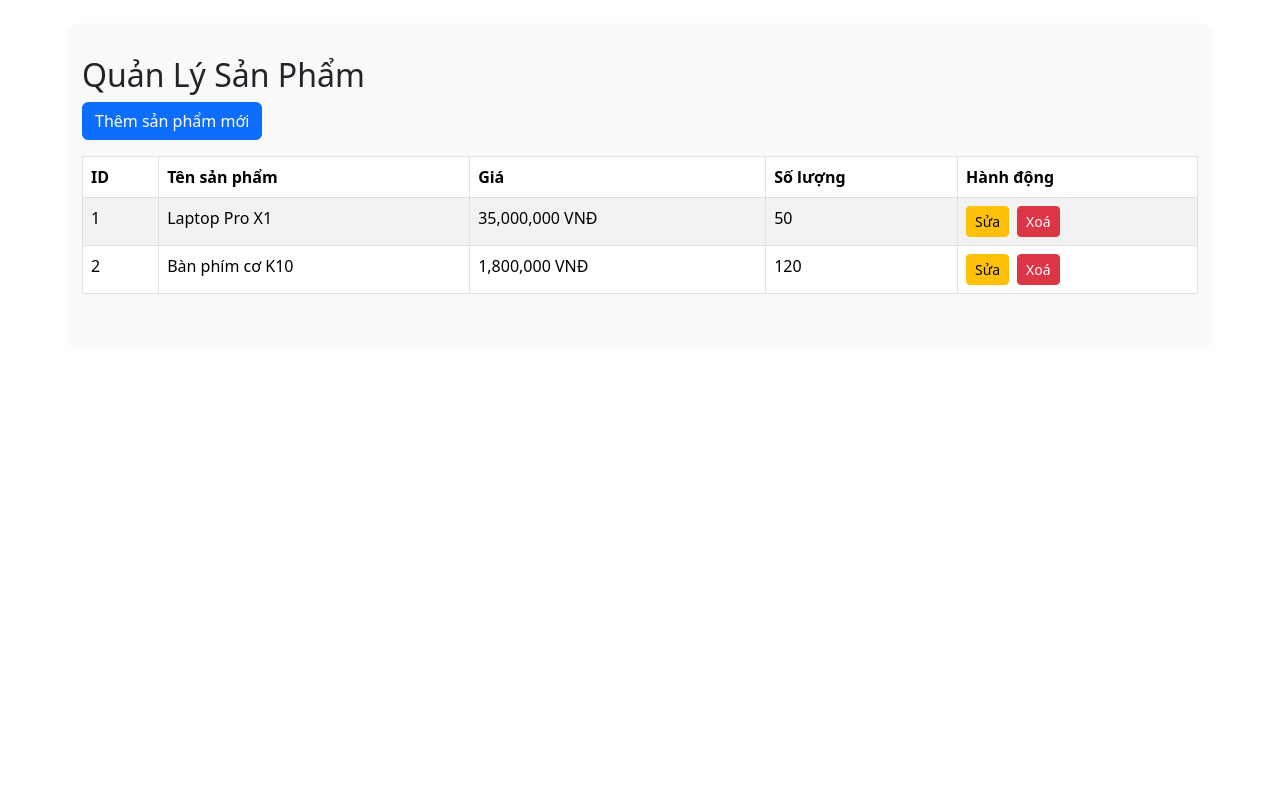
it: a) ProductList Integration (ProductManagement Component) › a.4 - Tích hợp Xoá (Delete): Mở modal, xác nhận, gọi API và tải lại danh sách
Check: the text "Laptop Pro X1" is shown, box [159,198,470,246]
What coordinates should you click on to do the following:
click the button "Xoá" in the row of "Laptop Pro X1"
I would click on:
 (1038, 222)
Its box is [1017,206,1060,237].
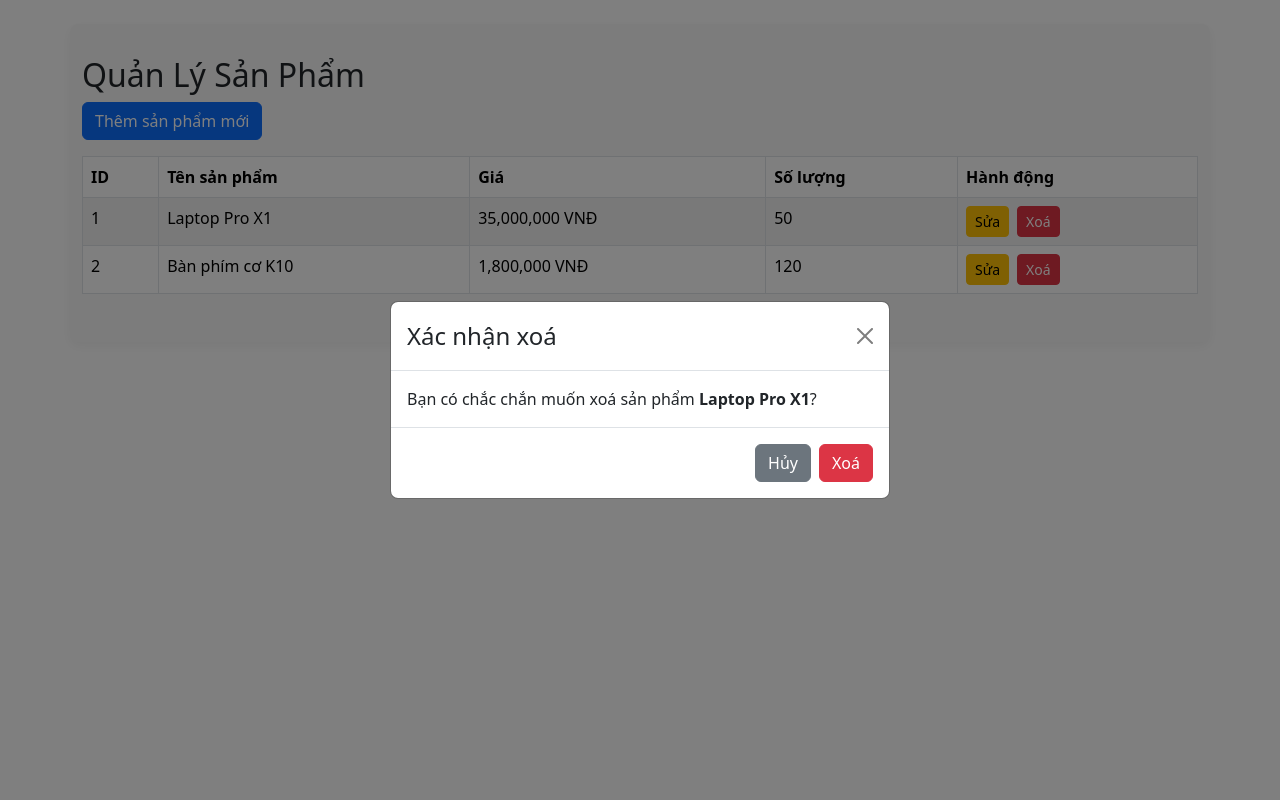
Check: the text "Xác nhận xoá" is shown, box [407,318,557,354]
Check: the text "Laptop Pro X1" is shown, box [695,388,810,410]
What coordinates should you click on to do the following:
click the button "Xoá"
I would click on:
 (846, 463)
Its box is [819,444,873,482].
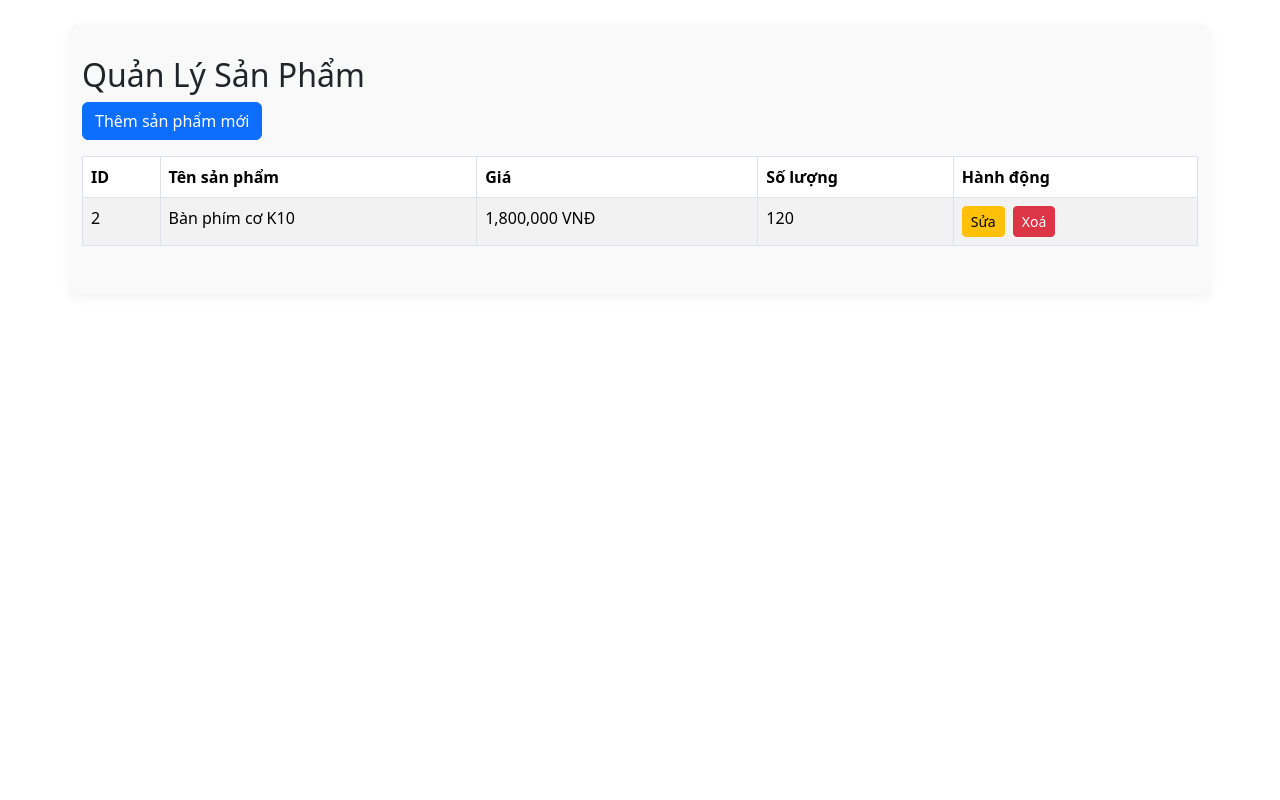
Check: the text "Bàn phím cơ K10" is shown, box [160,198,477,246]
Check: the dialog is gone
Check: the text "Laptop Pro X1" is gone
